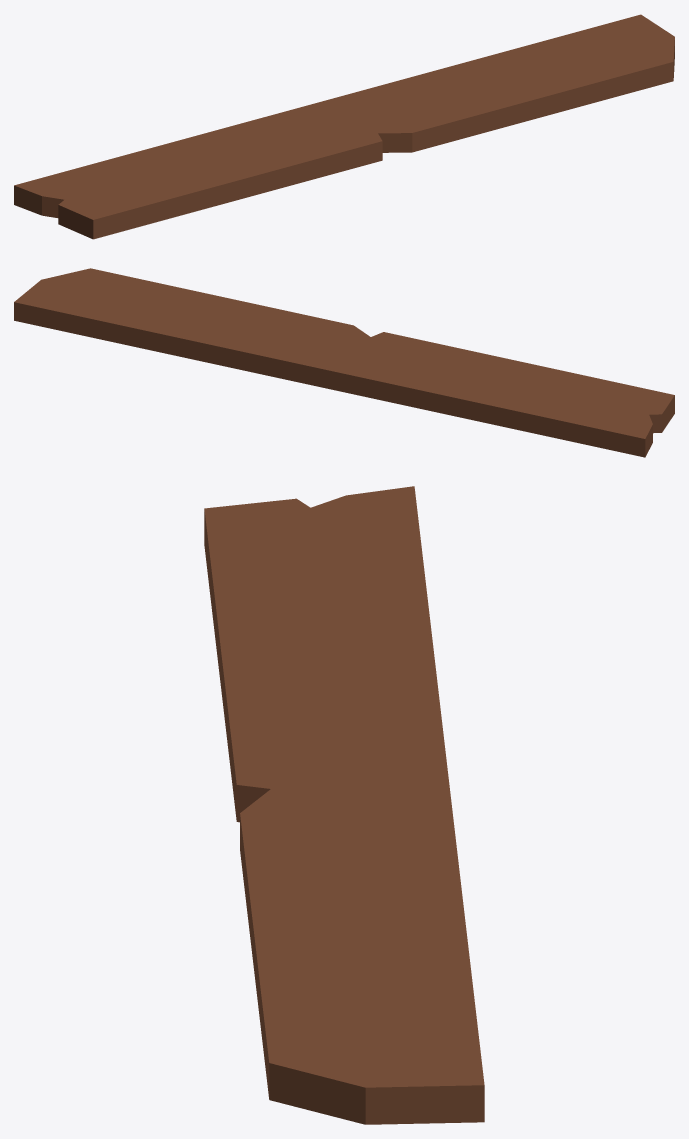
Rendered from Desk_01.fbx.
3 views of the same model, one above another, from view 1: azimuth 30°, elevation 25°; view 2: azimuth 150°, elevation 25°; view 3: azimuth 270°, elevation 25° (orthographic). The views are drawn at different scales.
Visible parts, largest first — view 1: Desk_01; view 2: Desk_01; view 3: Desk_01.
Part boxes in pixels (box(x1,y1,x2,y2)): Desk_01: box(14, 14, 674, 239); Desk_01: box(14, 268, 674, 457); Desk_01: box(204, 486, 484, 1124).
Bounding box in the file's own units: 165 × 4.74 × 32.45.
